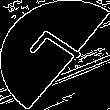L_SE: (22, 27, 88, 83)
